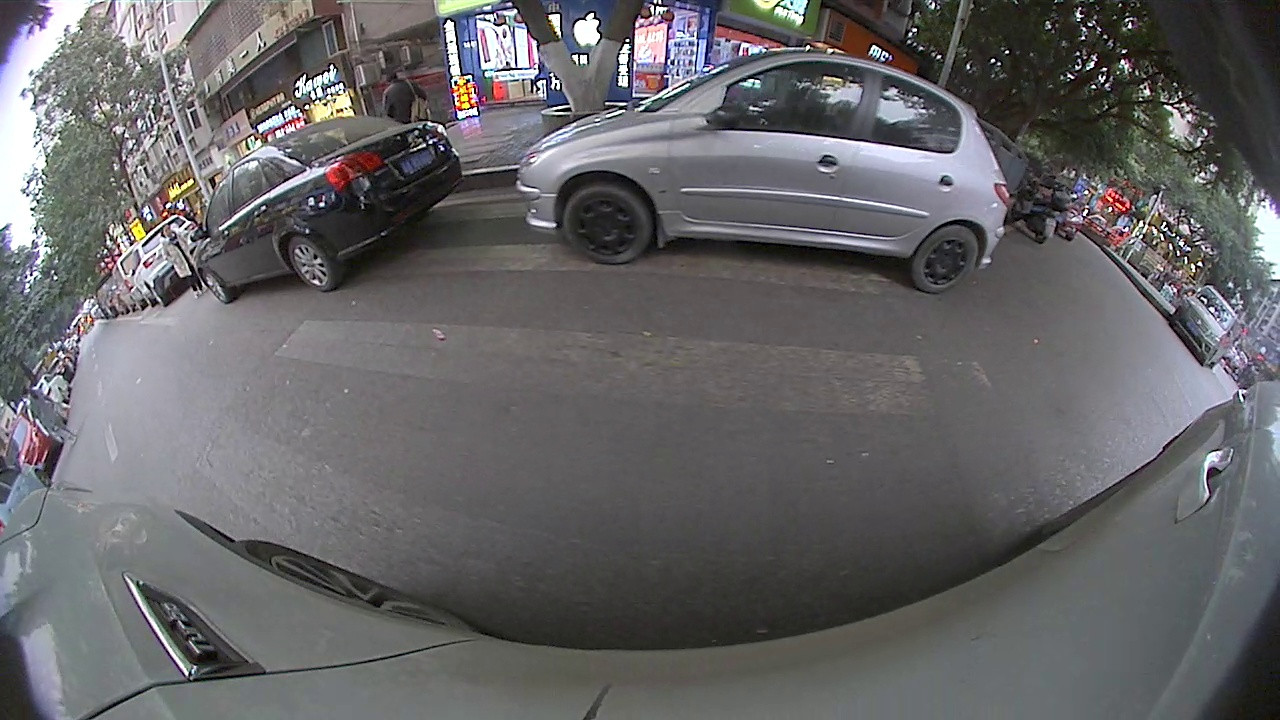car: (514, 51, 1011, 295), (194, 116, 465, 303), (132, 216, 199, 307), (1168, 282, 1242, 364), (2, 418, 61, 478)
front: (564, 185, 654, 264), (199, 270, 234, 304)
person: (382, 71, 414, 131), (26, 388, 55, 451), (162, 228, 188, 295)
rear: (917, 222, 978, 292), (285, 236, 338, 289)
rider: (1011, 178, 1076, 244)
